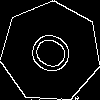O: (25, 27, 84, 84)
